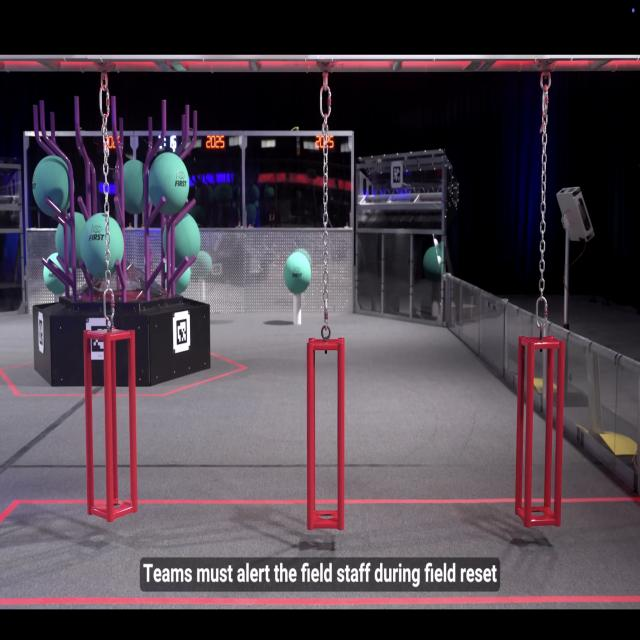algae: (26, 150, 78, 220), (143, 150, 196, 213), (80, 213, 128, 279), (160, 204, 203, 268), (112, 150, 152, 215), (54, 208, 89, 262), (40, 248, 75, 293), (284, 249, 313, 294), (166, 256, 196, 294)
coral: (290, 282, 307, 330)
